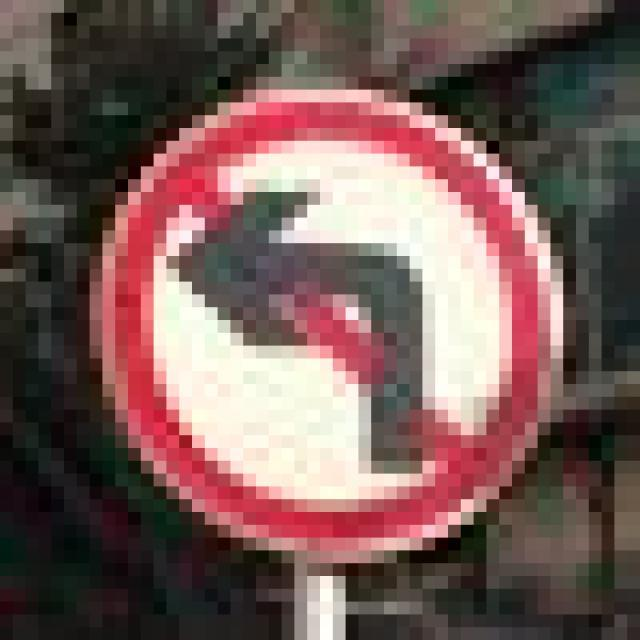left turn prohibited: (81, 79, 575, 553)
